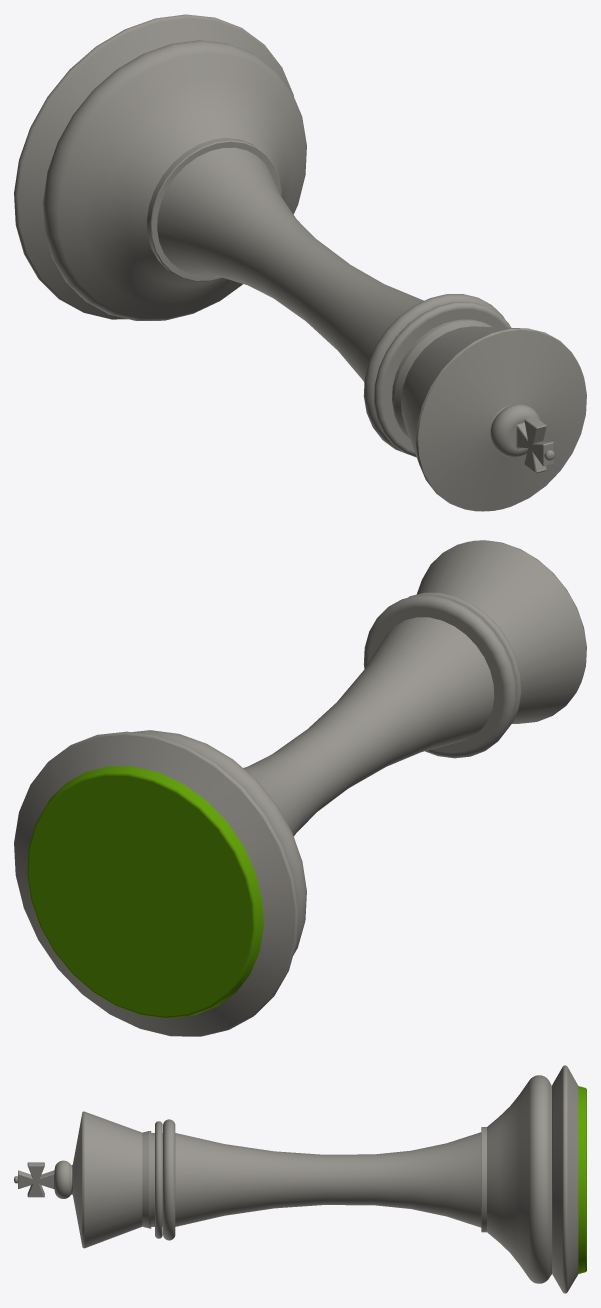
File: king_asm_c.gltf
3 views of the same model, one above another, from view 1: azimuth 30°, elevation 25°; view 2: azimuth 150°, elevation 25°; view 3: azimuth 270°, elevation 25° (orthographic). The views are drawn at different scales.
Visible parts, largest first — view 1: king; view 2: king, felt; view 3: king, felt.
Part boxes in pixels (<box>): king: <box>14,14,586,511</box>; king: <box>14,540,586,1036</box>; felt: <box>27,766,263,1018</box>; king: <box>14,1065,578,1293</box>; felt: <box>578,1086,586,1273</box>.
Bounding box in the file's own units: 0.0387 × 0.0387 × 0.0972.
